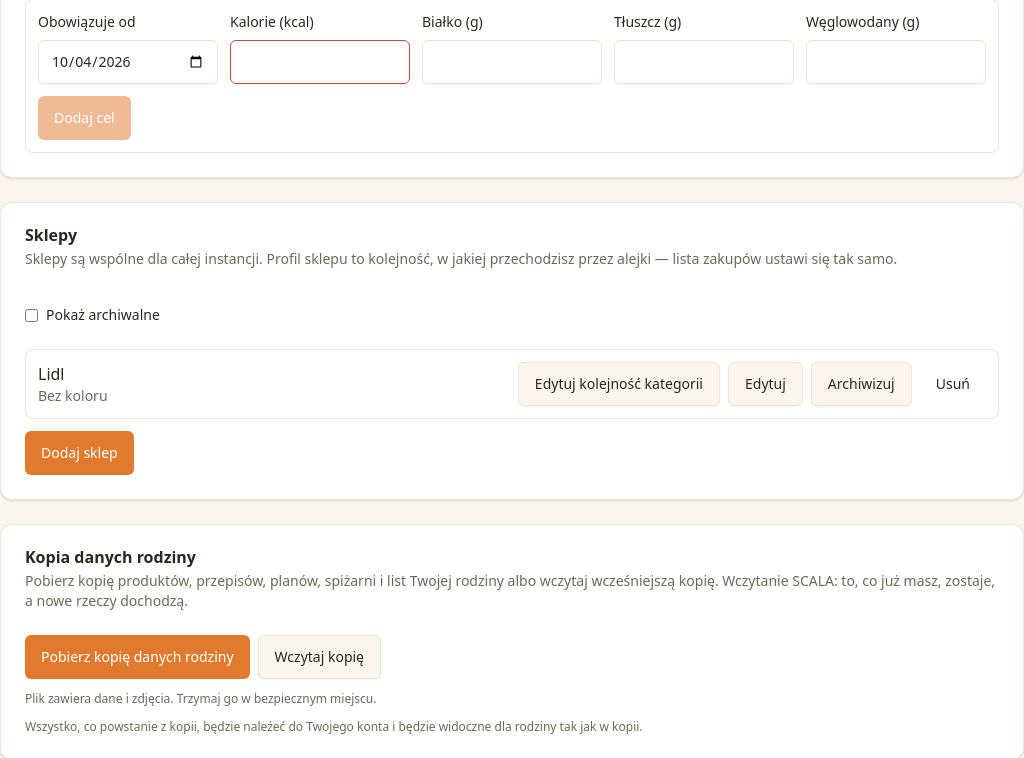
Test: UstawieniaPage › edytor kolejności kategorii rozwija się przy sklepie
The image size is (1024, 758).
(page scrolled)
Click the button with test id "store-order-5" at (619,384), box [518,362,720,406]
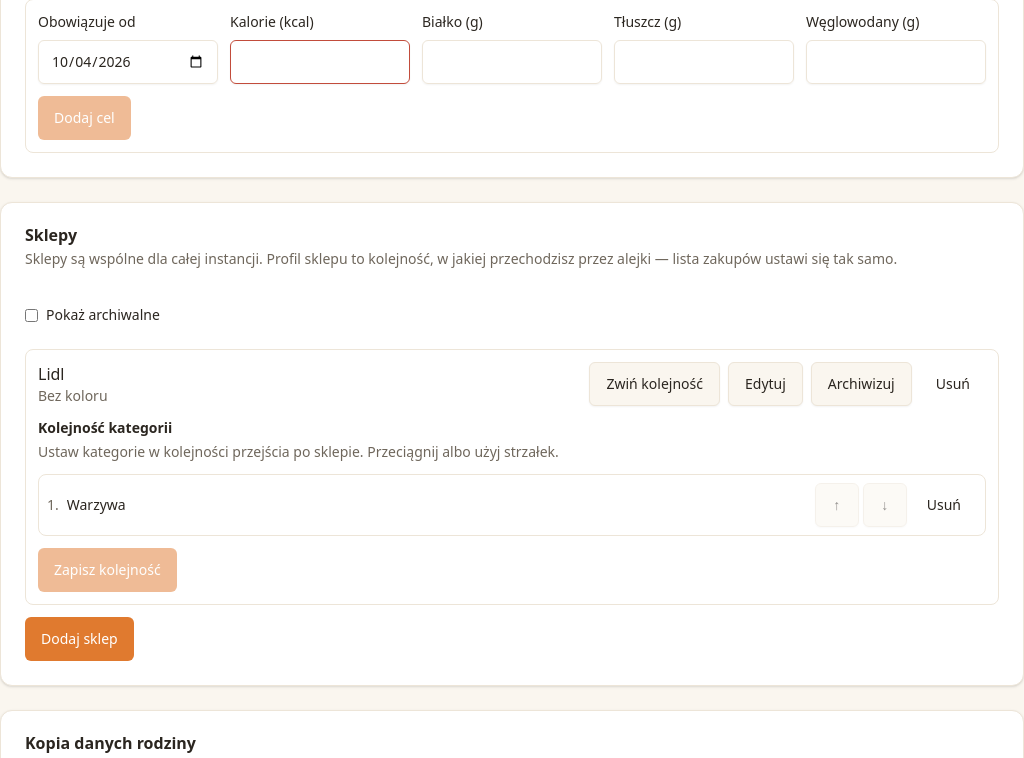
Expected: the element with test id "category-order-editor" is shown, [38,418,986,592]
